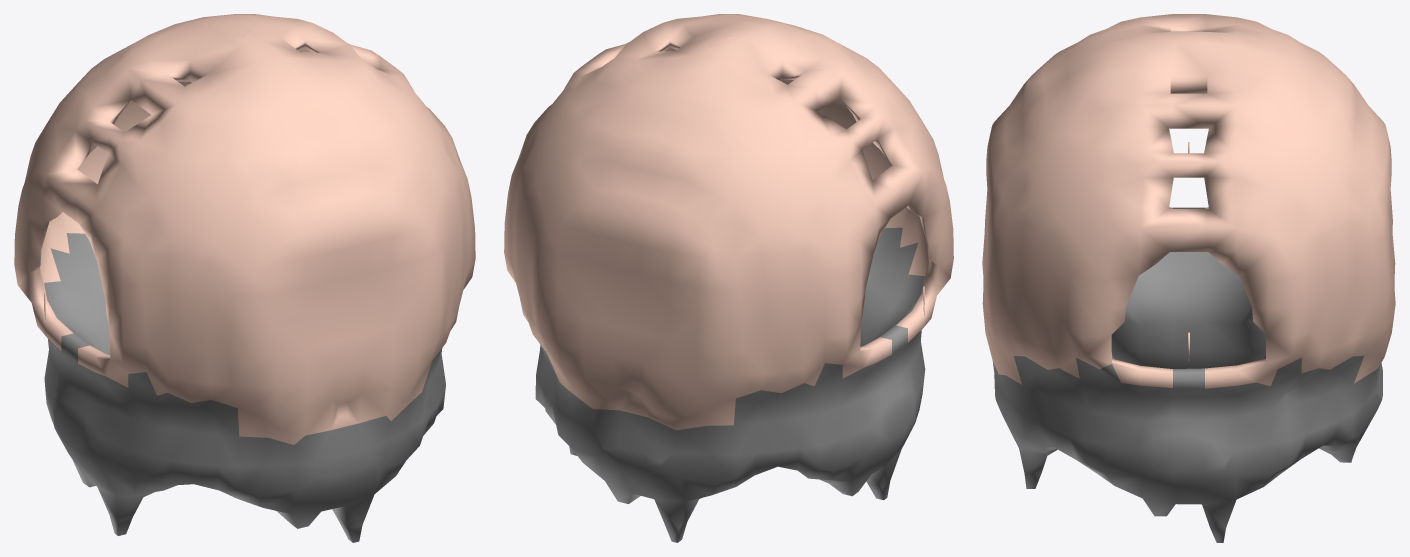
File: base_link_remeshed.dae
3 renders of one model, left to right at view 1: azimuth 30°, elevation 25°; view 2: azimuth 150°, elevation 25°; view 3: azimuth 270°, elevation 25°, orthographic. The views are drawn at different scales.
Parts seen in each view (by area): view 1: node0; view 2: node0; view 3: node0.
Part boxes in pixels (box(x1,y1,x2,y2)): node0: box(14, 14, 475, 542); node0: box(504, 14, 953, 542); node0: box(982, 14, 1395, 542).
Bounding box in the file's own units: 0.042 × 0.0386 × 0.0452.
